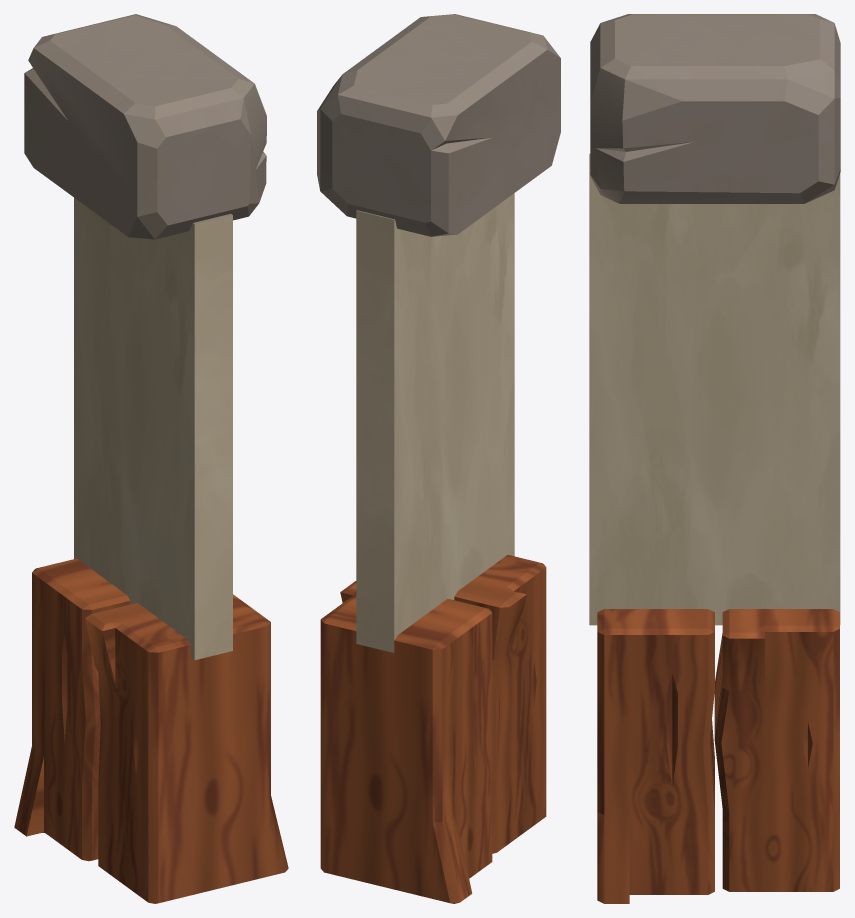
Rendered from SM_Wall_02.fbx.
The picture shows the model from 3 angles, left to right: view 1: azimuth 30°, elevation 25°; view 2: azimuth 150°, elevation 25°; view 3: azimuth 270°, elevation 25°; orthographic projection. The views are drawn at different scales.
Visible parts, largest first — view 1: SM_Wall_02; view 2: SM_Wall_02; view 3: SM_Wall_02.
Part boxes in pixels (box(x1,y1,x2,y2)): SM_Wall_02: box(14, 14, 288, 903); SM_Wall_02: box(317, 14, 560, 903); SM_Wall_02: box(589, 14, 840, 903).
Bounding box in the file's own units: 79.66 × 368 × 102.
